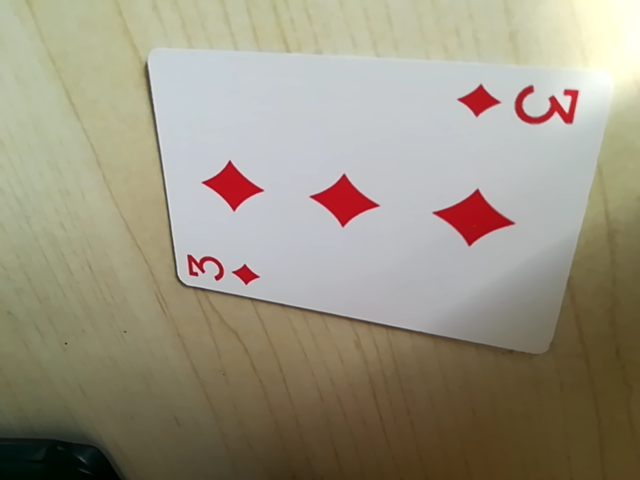fk 3: (458, 77, 585, 130), (179, 248, 263, 293)
